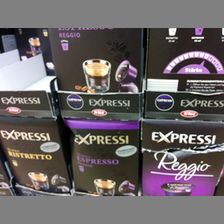coffee: (144, 28, 224, 113), (139, 119, 224, 194), (48, 28, 143, 95), (62, 117, 141, 195), (1, 116, 73, 194)
